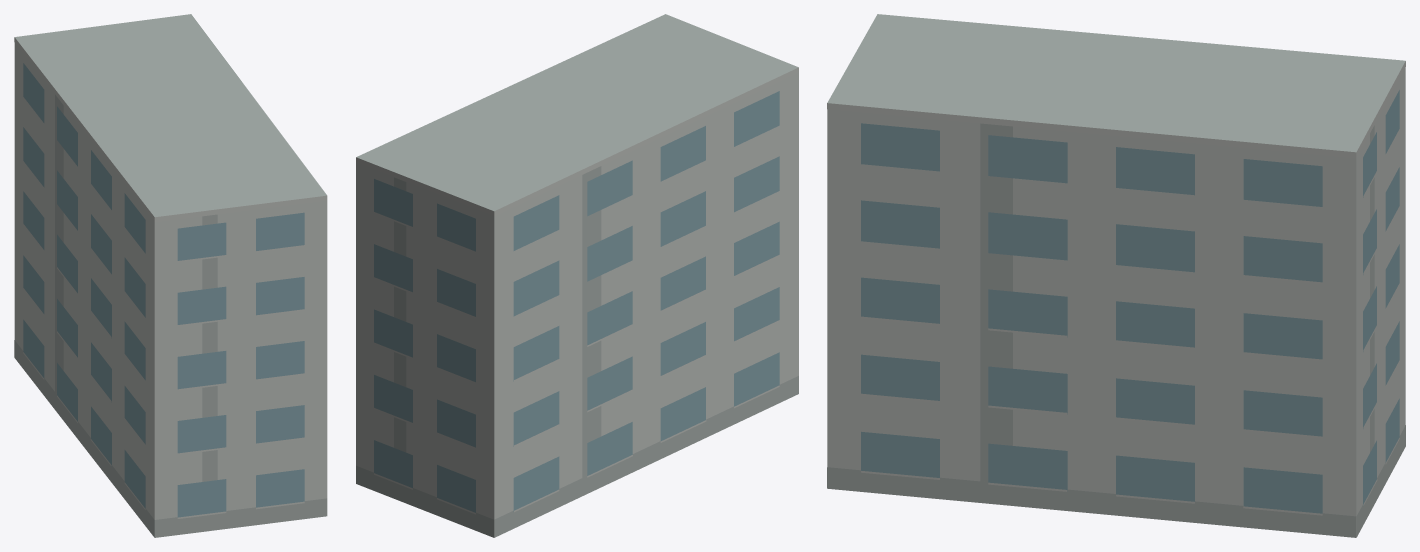
The model's file is residential-79cb059a-b081-4c8c-8270-a3b2ae376364.glb.
The picture shows the model from 3 angles, left to right: view 1: azimuth 30°, elevation 25°; view 2: azimuth 150°, elevation 25°; view 3: azimuth 270°, elevation 25°; orthographic projection. The views are drawn at different scales.
Visible parts, largest first — view 1: residential-79cb059a-b081-4c8c-8270-a3b2ae376364.tmp; view 2: residential-79cb059a-b081-4c8c-8270-a3b2ae376364.tmp; view 3: residential-79cb059a-b081-4c8c-8270-a3b2ae376364.tmp.
Boxes of the visible parts, x1,y1,x2,y2 form: residential-79cb059a-b081-4c8c-8270-a3b2ae376364.tmp: (14,14,327,537); residential-79cb059a-b081-4c8c-8270-a3b2ae376364.tmp: (356,14,798,537); residential-79cb059a-b081-4c8c-8270-a3b2ae376364.tmp: (827,14,1405,537).
Size of the model in its own units: 11.74 by 15.25 by 20.75.
